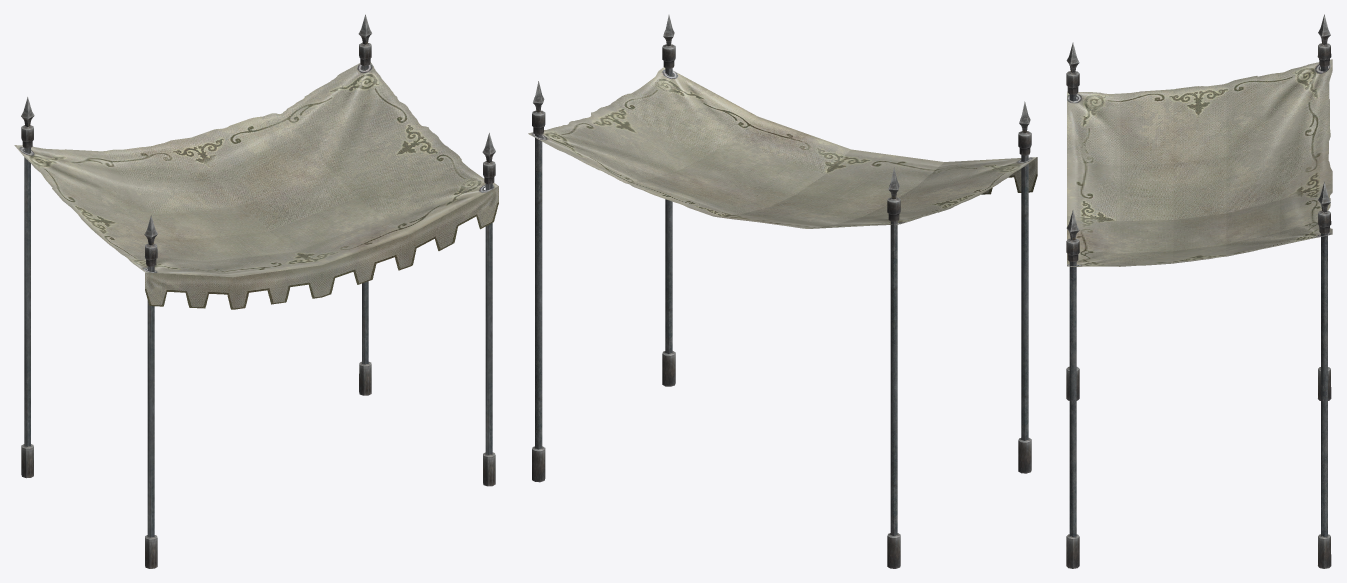
Rendered from bg_lut_lucastle_tent01_sm_msj.FBX.
3 renders of one model, left to right at view 1: azimuth 30°, elevation 25°; view 2: azimuth 150°, elevation 25°; view 3: azimuth 270°, elevation 25°, orthographic. The views are drawn at different scales.
Parts seen in each view (by area): view 1: bg_lut_lucastle_tent01_sm_msj; view 2: bg_lut_lucastle_tent01_sm_msj; view 3: bg_lut_lucastle_tent01_sm_msj.
Part boxes in pixels (x1,y1,x2,y2): bg_lut_lucastle_tent01_sm_msj: [14, 14, 498, 568]; bg_lut_lucastle_tent01_sm_msj: [528, 15, 1037, 568]; bg_lut_lucastle_tent01_sm_msj: [1066, 14, 1332, 568].
Bounding box in the file's own units: 338 × 346 × 217.
